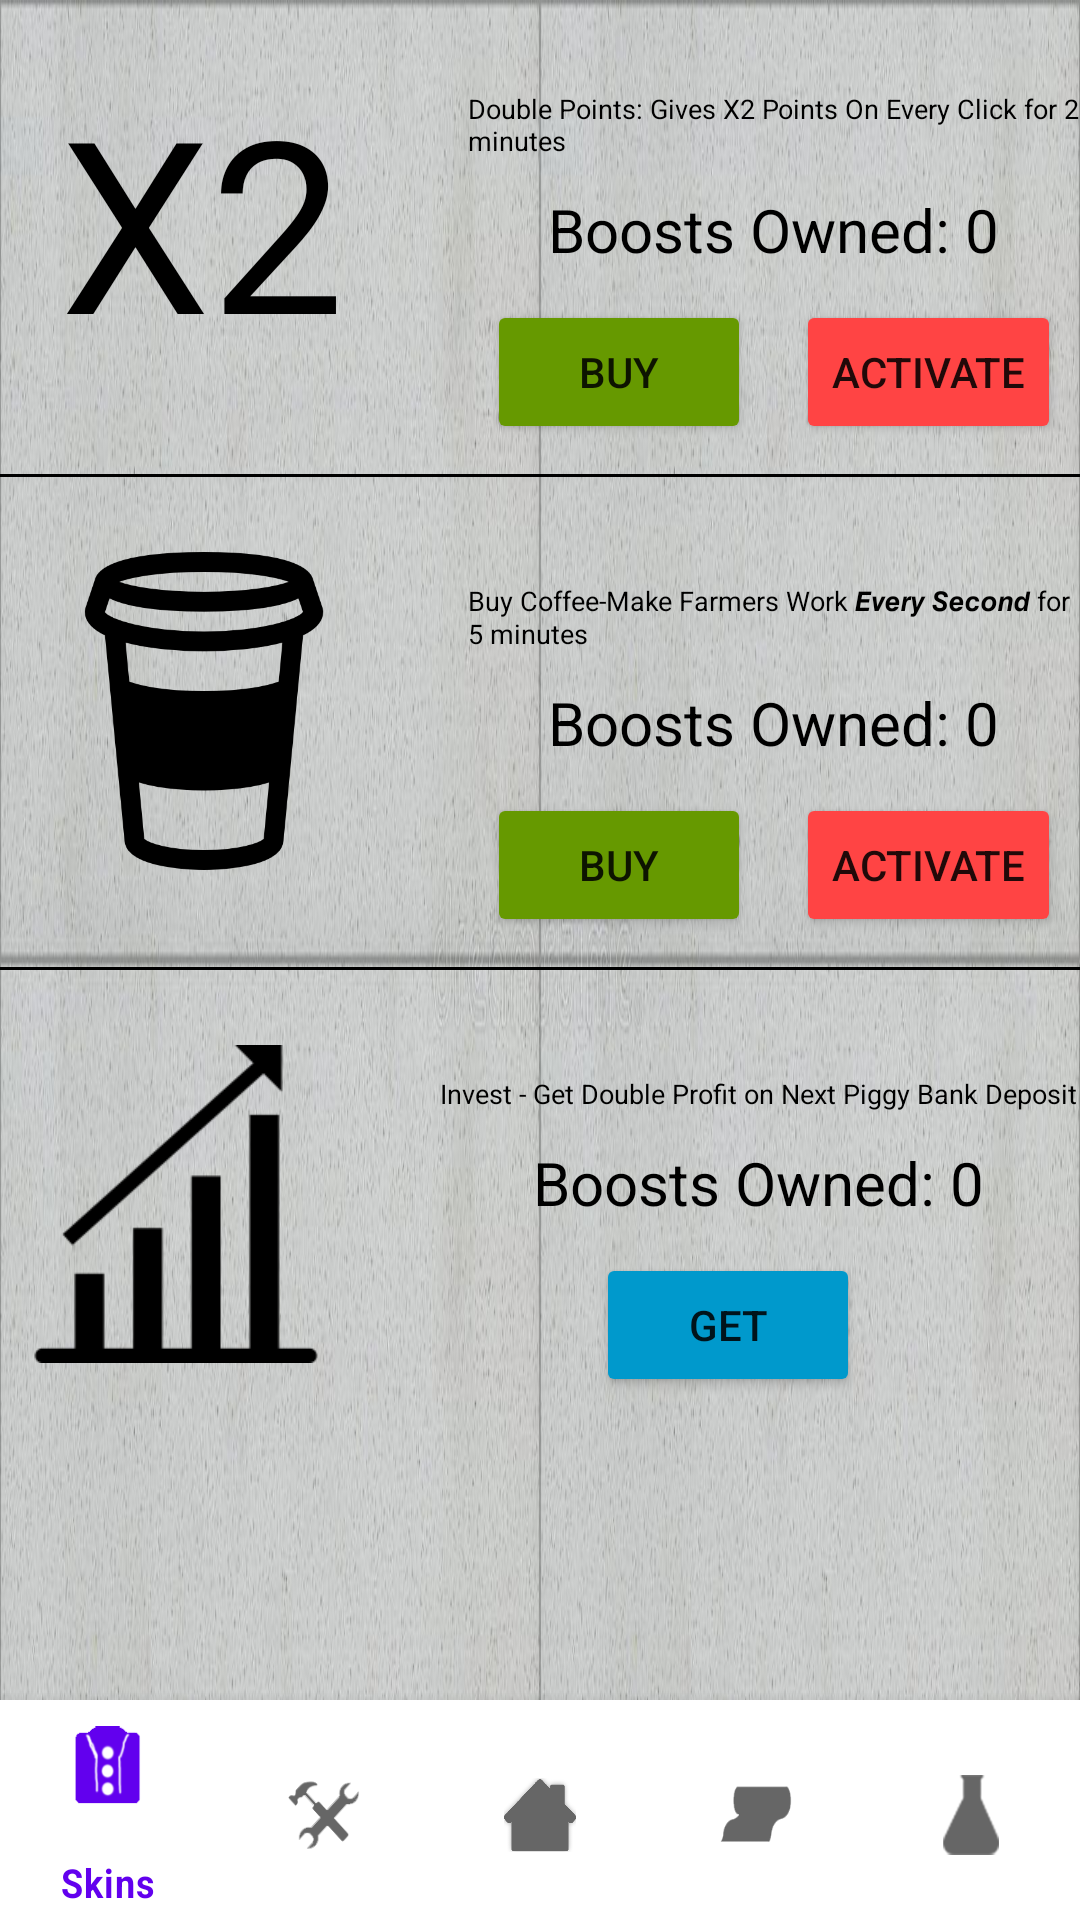

Icon click points for this 1080px x 1920px phone screenshot, format (x,y):
stocks: (176,1204)
